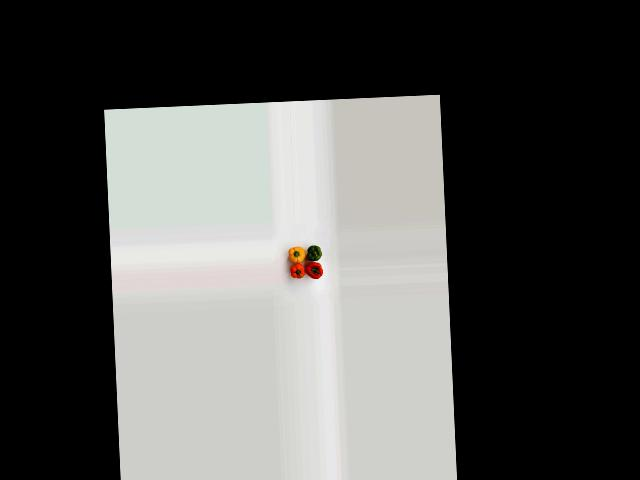bell_pepper: (304, 240, 323, 265)
